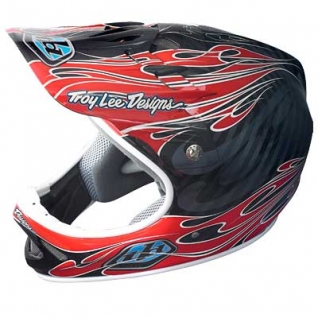helmet: (28, 18, 303, 259)
